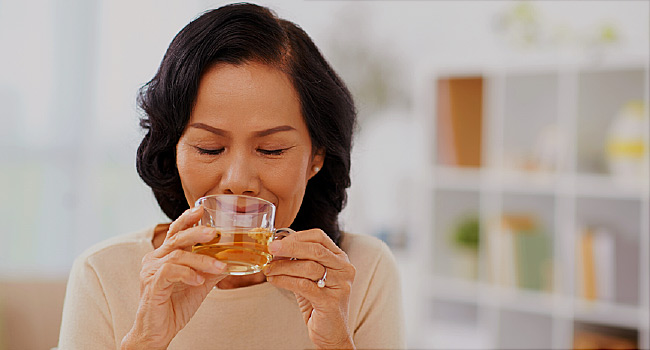drinking: (100, 11, 402, 319)
